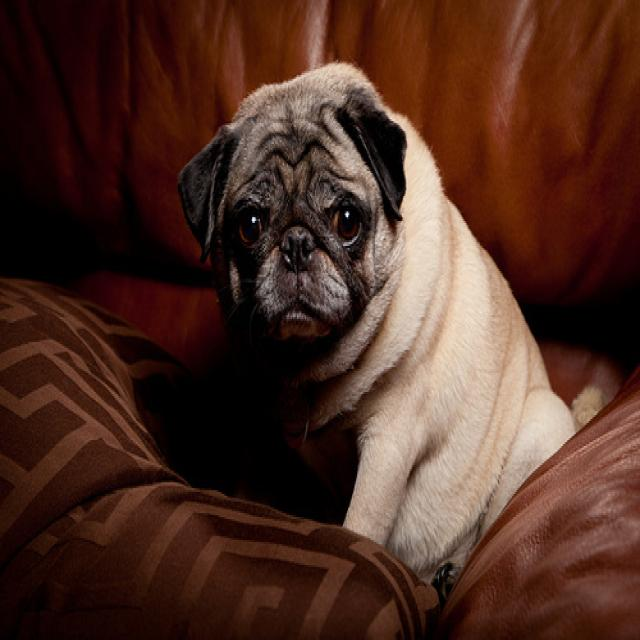dog-pug: (168, 50, 611, 609)
